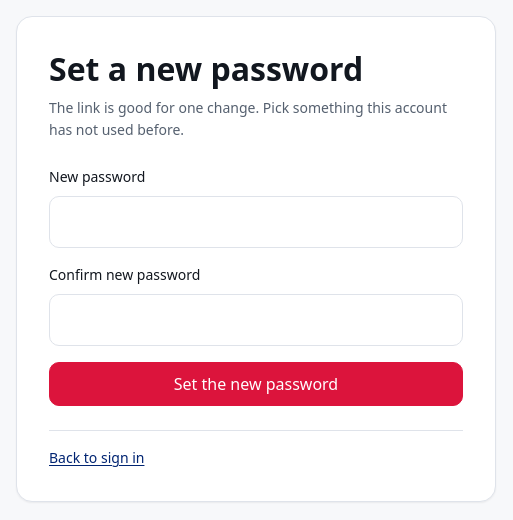
Scenario: ResetPasswordPage › spends the link on a password both fields agree on
The image size is (513, 520).
Step 1. Type "BrandNewPass1!" into the password field labelled "New password" → (256, 222), box x1=49 y1=196 x2=463 y2=248
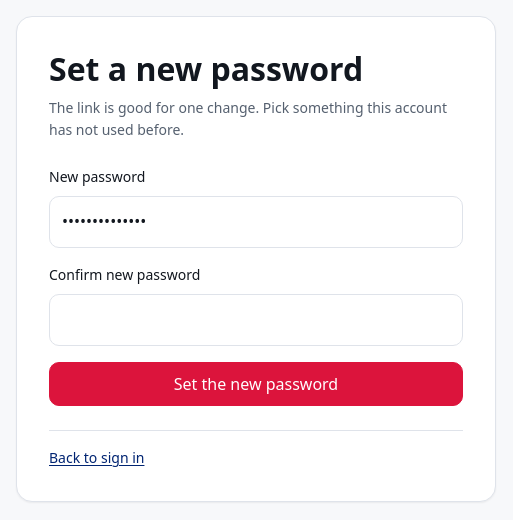
Step 2. Type "BrandNewPass1!" into the password field labelled "Confirm new password" → (256, 320), box x1=49 y1=294 x2=463 y2=346
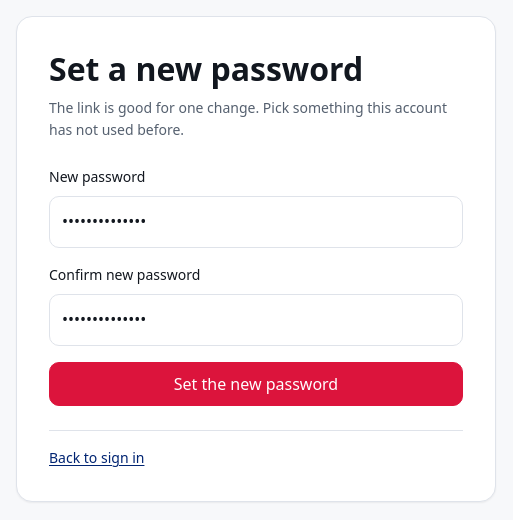
Step 3. Click the button "Set the new password" → (256, 384), box x1=49 y1=362 x2=463 y2=406
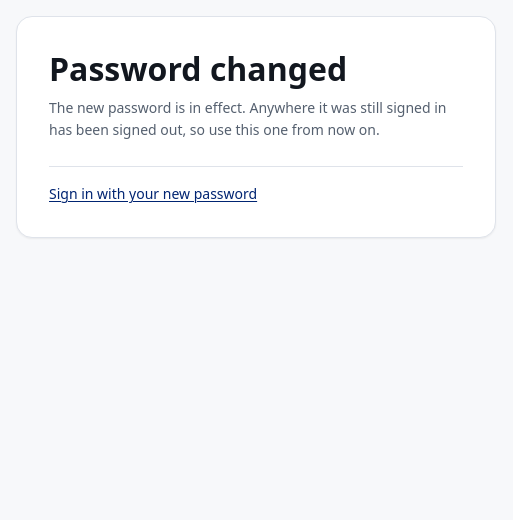
Check: the heading "Password changed" is shown, box x1=49 y1=47 x2=347 y2=90
